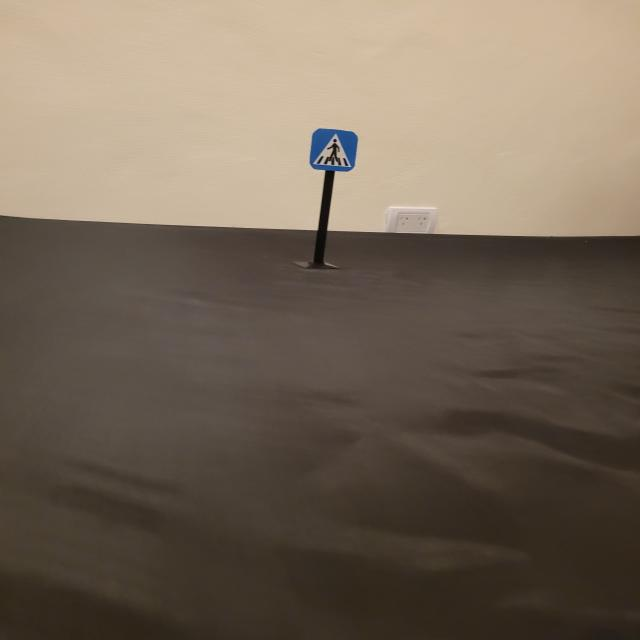crosswalk: (308, 128, 359, 171)
